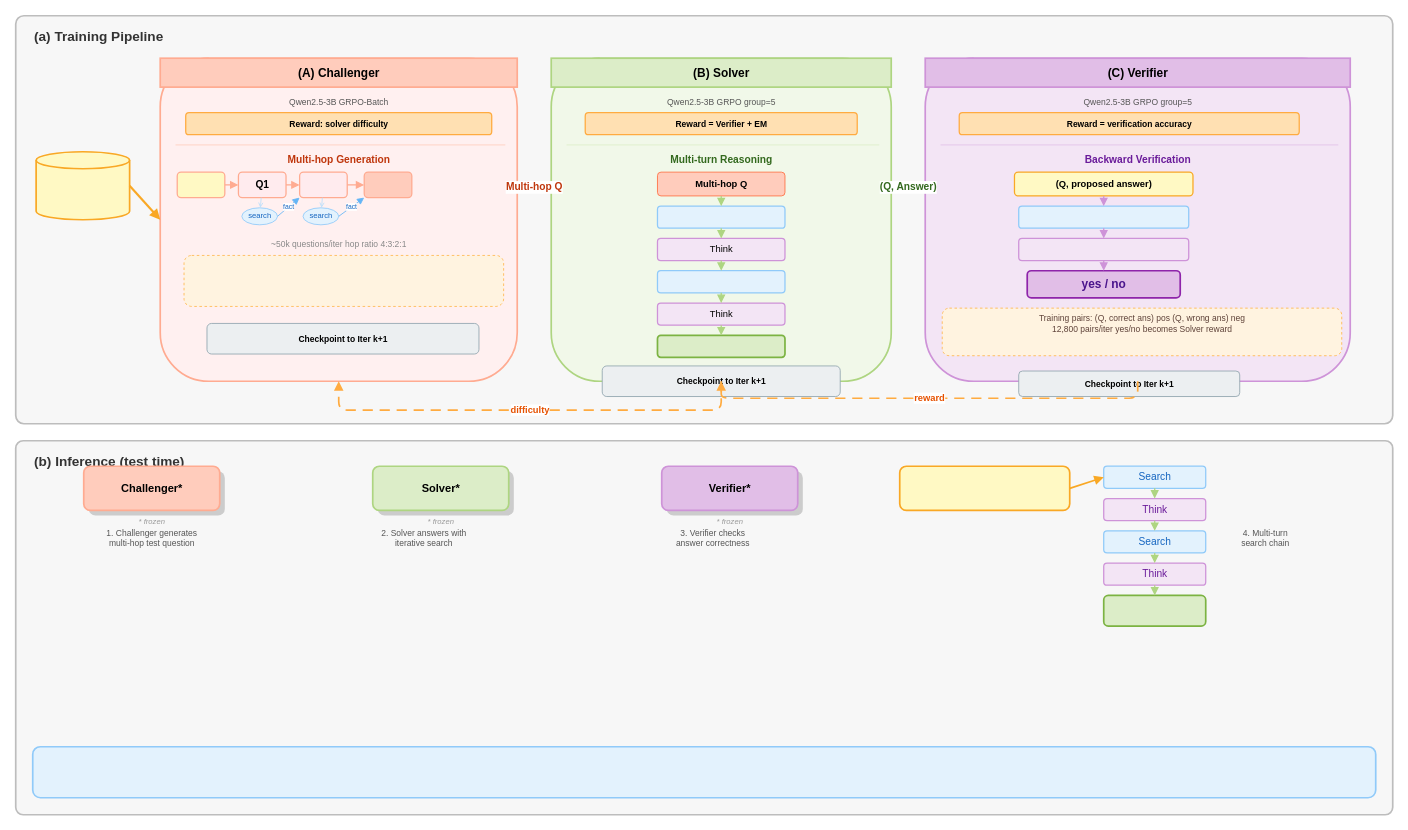
Some shapes in this 1408 by 830 pixel diagram are drawn without their labels. Each missing label, with the centre of its shape:
"answer" goes at (720,346).
"Backward Search" goes at (1103,216).
"D_k (generated questions) become Solver training data" goes at (343,280).
"Final Answer" goes at (1154,610).
"Q0" goes at (200,184).
"Q2" goes at (323,184).
"Q_hard" goes at (387,184).
"Reason and Compare" goes at (1103,249).
"Search 1" goes at (720,216).
"Search 2" goes at (720,281).
"Seed QA Corpus" goes at (82,185).
"Shared Retrieval Module — Wikipedia (wiki-18) FAISS E5-base-v2 Top-3 passages" goes at (703,771).
"Test Question" goes at (984,488).
